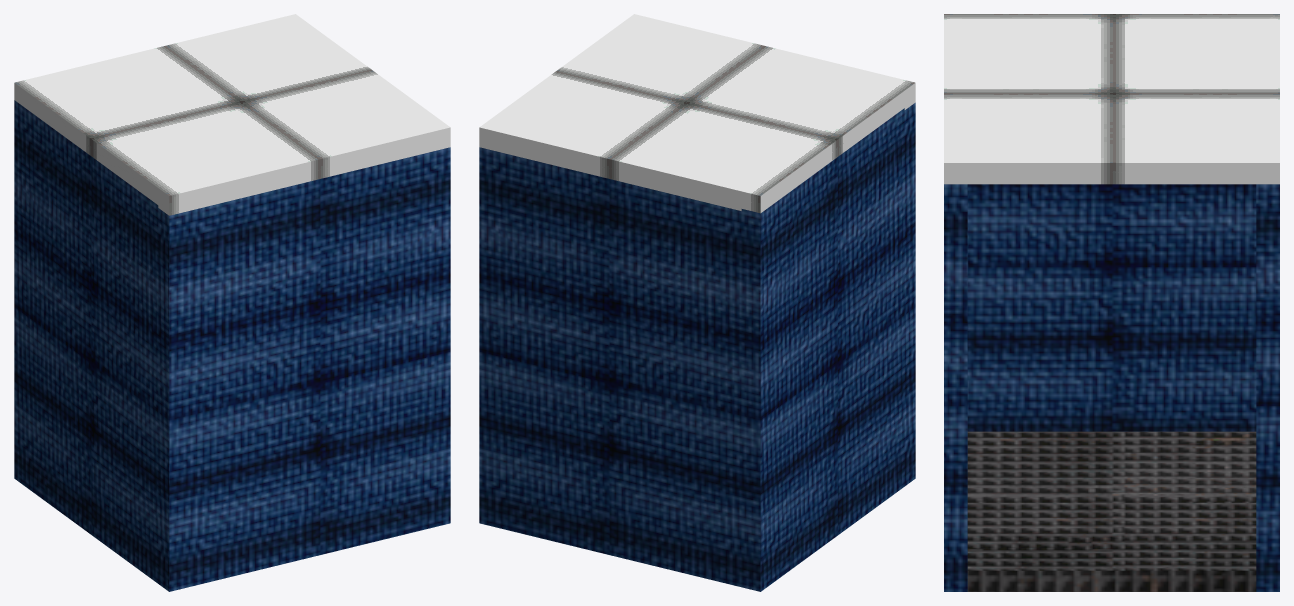
The model's file is Eli.glb.
3 renders of one model, left to right at view 1: azimuth 30°, elevation 25°; view 2: azimuth 150°, elevation 25°; view 3: azimuth 270°, elevation 25°, orthographic. The views are drawn at different scales.
Visible parts, largest first — view 1: Eli; view 2: Eli; view 3: Eli.
Part boxes in pixels (x1,y1,x2,y2): Eli: (14, 14, 450, 591); Eli: (479, 14, 915, 591); Eli: (944, 14, 1279, 591).
Bounding box in the file's own units: 119 × 160 × 114.
Materials: 3 (3 with a texture image).
